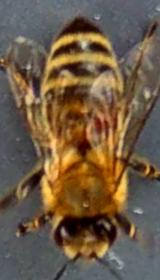varroa_mite: (80, 105, 121, 136)
